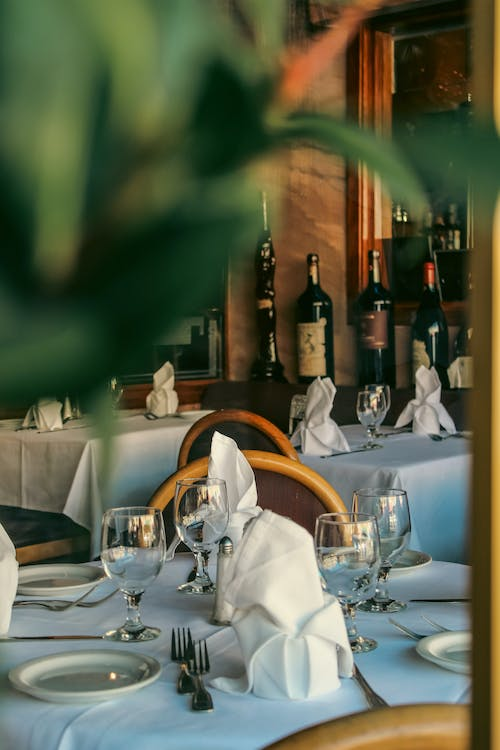alcohol: (247, 188, 287, 381), (351, 247, 398, 387), (290, 252, 337, 381), (408, 261, 451, 388)
